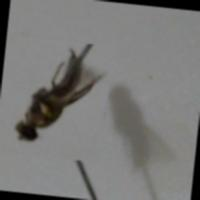Oriental-fruit-fly: (2, 34, 113, 162)
